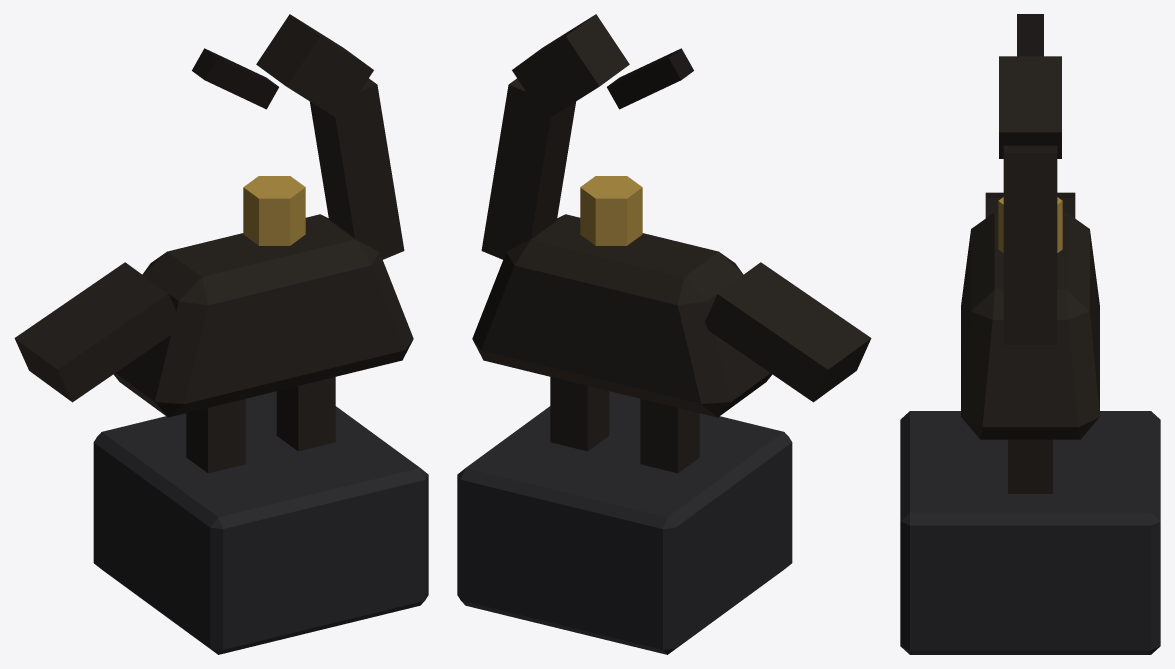
Rendered from sculpture-41.glb.
3 views of the same model, side by side, from view 1: azimuth 30°, elevation 25°; view 2: azimuth 150°, elevation 25°; view 3: azimuth 270°, elevation 25° (orthographic). The views are drawn at different scales.
Visible parts, largest first — view 1: sculpture_41; view 2: sculpture_41; view 3: sculpture_41.
Part boxes in pixels (left/top/right/bottom): sculpture_41: left=14, top=14, right=428, bottom=654; sculpture_41: left=457, top=14, right=871, bottom=654; sculpture_41: left=900, top=14, right=1160, bottom=654.
Size of the model in its own units: 0.2644 by 0.3925 by 0.1624.
